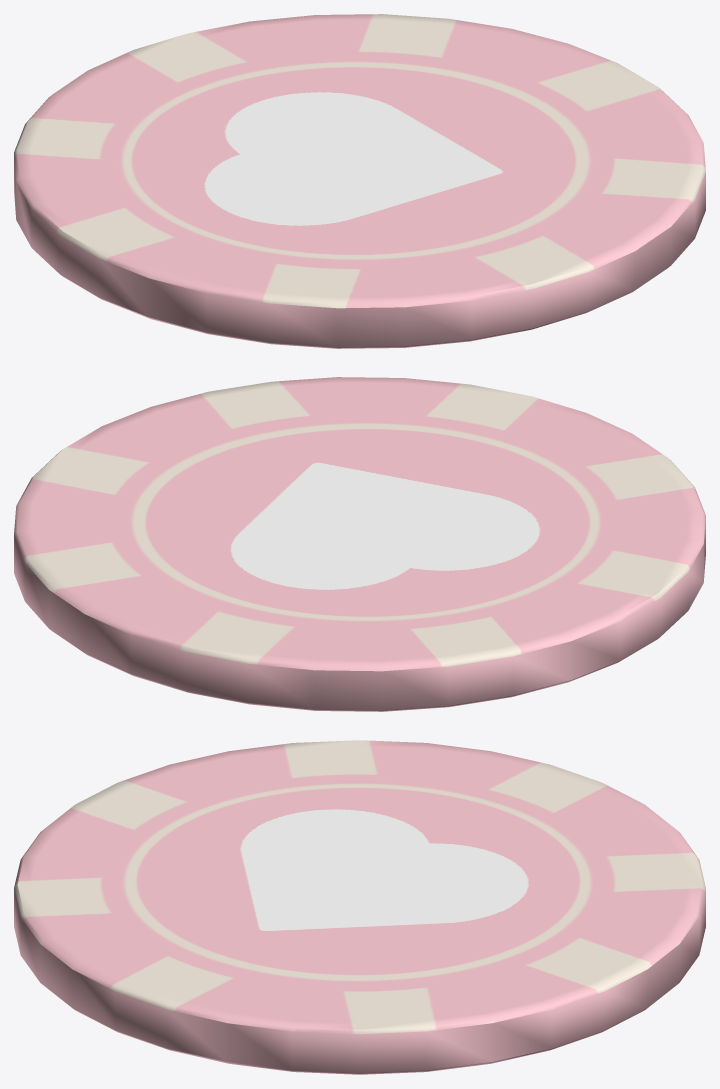
The model's file is Jeton.fbx.
3 renders of one model, top to bottom at view 1: azimuth 30°, elevation 25°; view 2: azimuth 150°, elevation 25°; view 3: azimuth 270°, elevation 25°, orthographic.
Parts seen in each view (by area): view 1: Cylinder; view 2: Cylinder; view 3: Cylinder.
Part boxes in pixels (<box>): Cylinder: <box>14,14,705,348</box>; Cylinder: <box>14,377,705,711</box>; Cylinder: <box>14,740,705,1074</box>.
Size of the model in its own units: 200 by 14.42 by 200.
